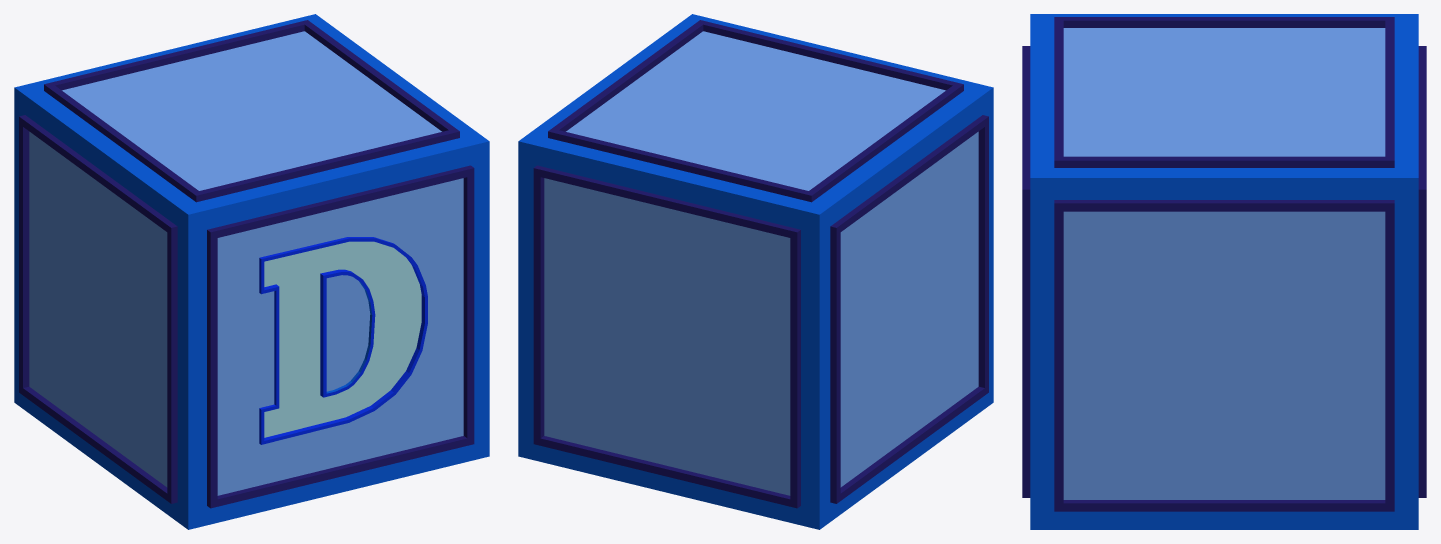
The model's file is SM_Alphabet_blocks_D.fbx.
3 views of the same model, side by side, from view 1: azimuth 30°, elevation 25°; view 2: azimuth 150°, elevation 25°; view 3: azimuth 270°, elevation 25° (orthographic). The views are drawn at different scales.
Parts seen in each view (by area): view 1: SM_Alphabet blocks_D; view 2: SM_Alphabet blocks_D; view 3: SM_Alphabet blocks_D.
Part boxes in pixels (x1=…): SM_Alphabet blocks_D: x1=14, y1=14, x2=489, y2=529; SM_Alphabet blocks_D: x1=518, y1=14, x2=993, y2=529; SM_Alphabet blocks_D: x1=1022, y1=14, x2=1426, y2=529.
Bounding box in the file's own units: 71.98 × 71.98 × 71.98.
